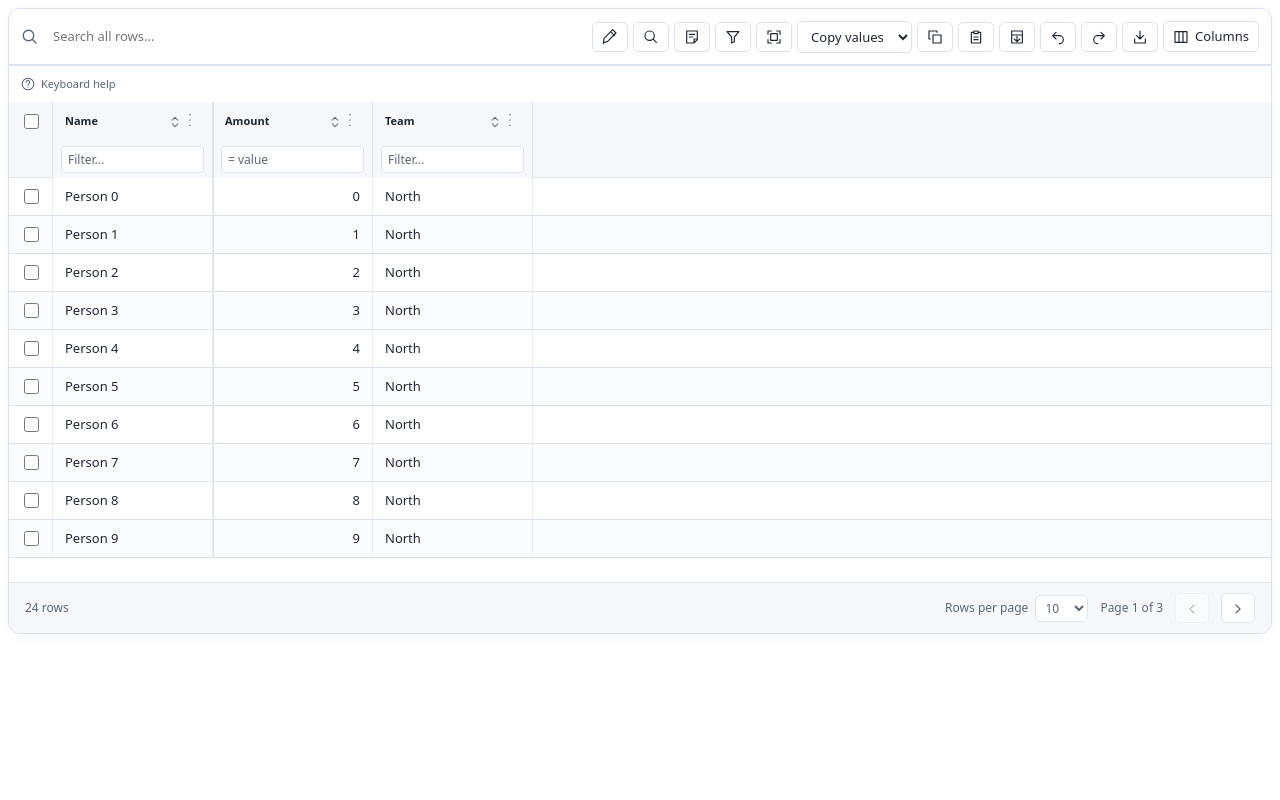
React DataGrid › paginates and updates for external model mutations
This screenshot has width=1280, height=800.
Expected: the text "Page 1 of 3" is shown, [1100, 599, 1163, 617]
Click the button named "Next page": x=1238, y=608 [1221, 593, 1255, 623]
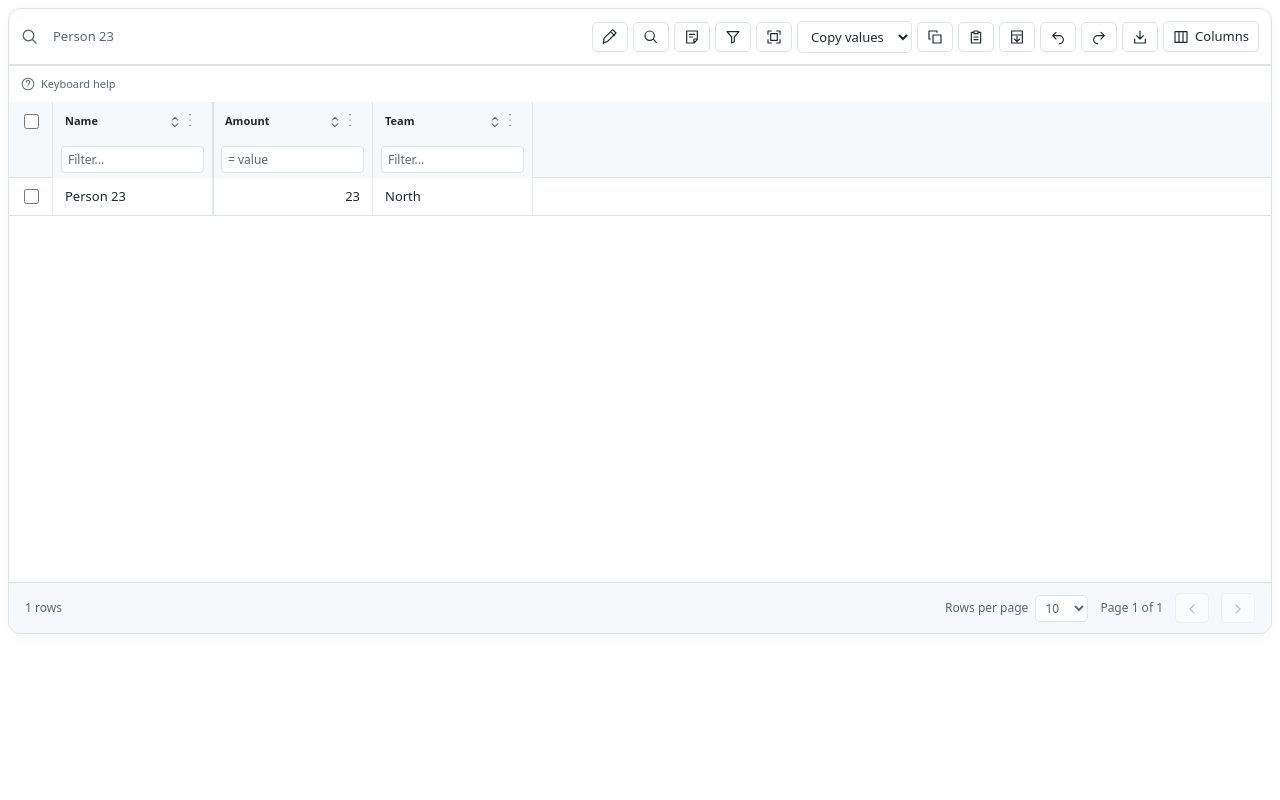
Expected: the text "Page 2 of 3" is shown, [1100, 599, 1163, 617]
Expected: the cell "Person 23" is shown, [53, 178, 213, 215]
Expected: the text "Person 23" is shown, [65, 187, 126, 206]
